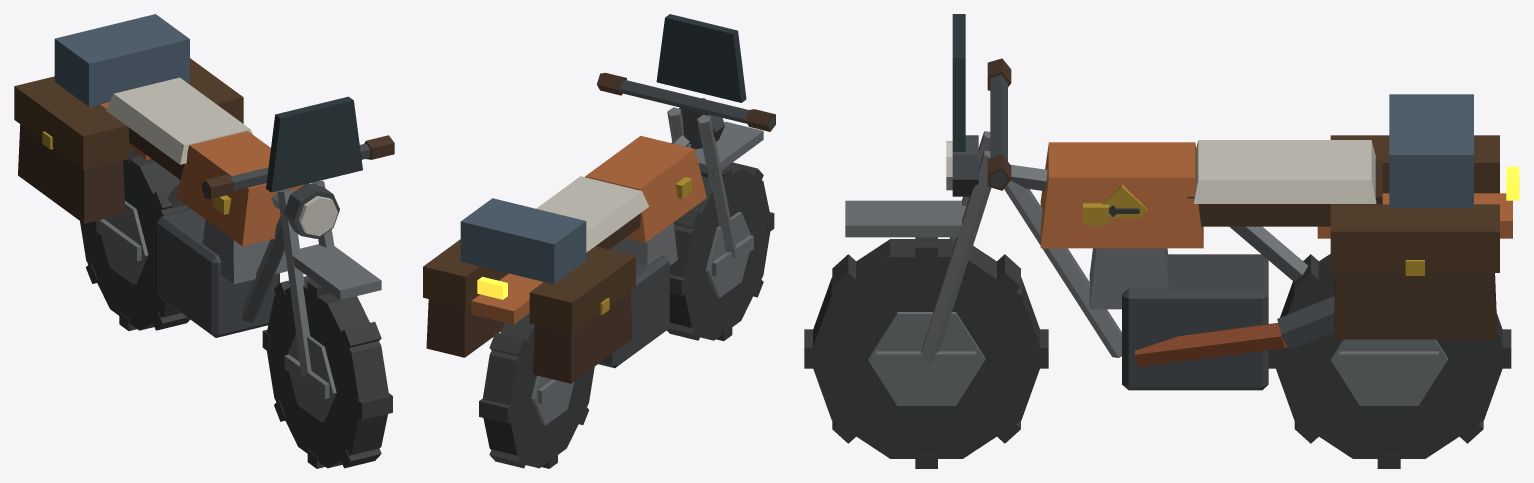
File: long_haul_marrow_bike.glb
3 renders of one model, left to right at view 1: azimuth 30°, elevation 25°; view 2: azimuth 150°, elevation 25°; view 3: azimuth 270°, elevation 25°, orthographic. The views are drawn at different scales.
Parts seen in each view (by area): view 1: body, wheel_f, wheel_r; view 2: body, wheel_f, wheel_r; view 3: body, wheel_f, wheel_r.
Boxes of the visible parts, x1,y1,x2,y2 form: body: (14, 14, 394, 377); wheel_f: (262, 276, 392, 468); wheel_r: (80, 148, 190, 330); body: (423, 14, 775, 383); wheel_f: (667, 162, 774, 341); wheel_r: (479, 313, 594, 468); body: (845, 14, 1519, 390); wheel_f: (804, 237, 1048, 468); wheel_r: (1268, 254, 1511, 468).
Size of the model in its own units: 0.8 by 1.43 by 2.19.
